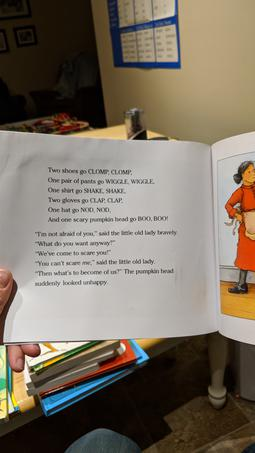text block: (26, 161, 191, 290)
